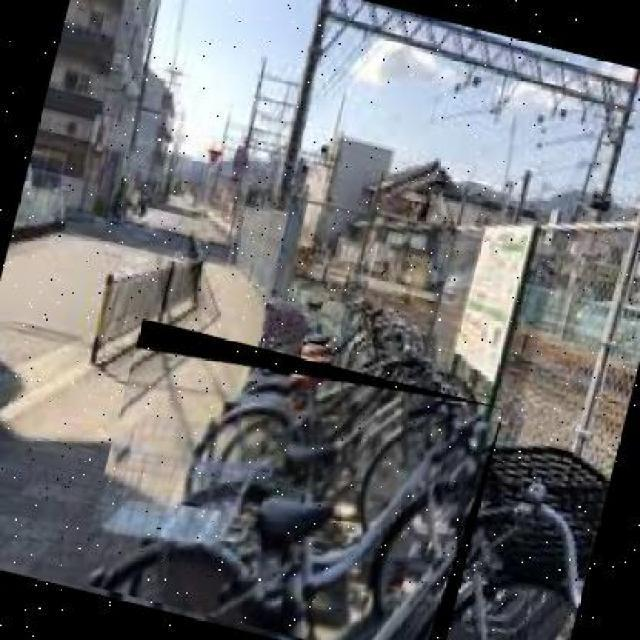bicycle: (75, 320, 506, 640)
